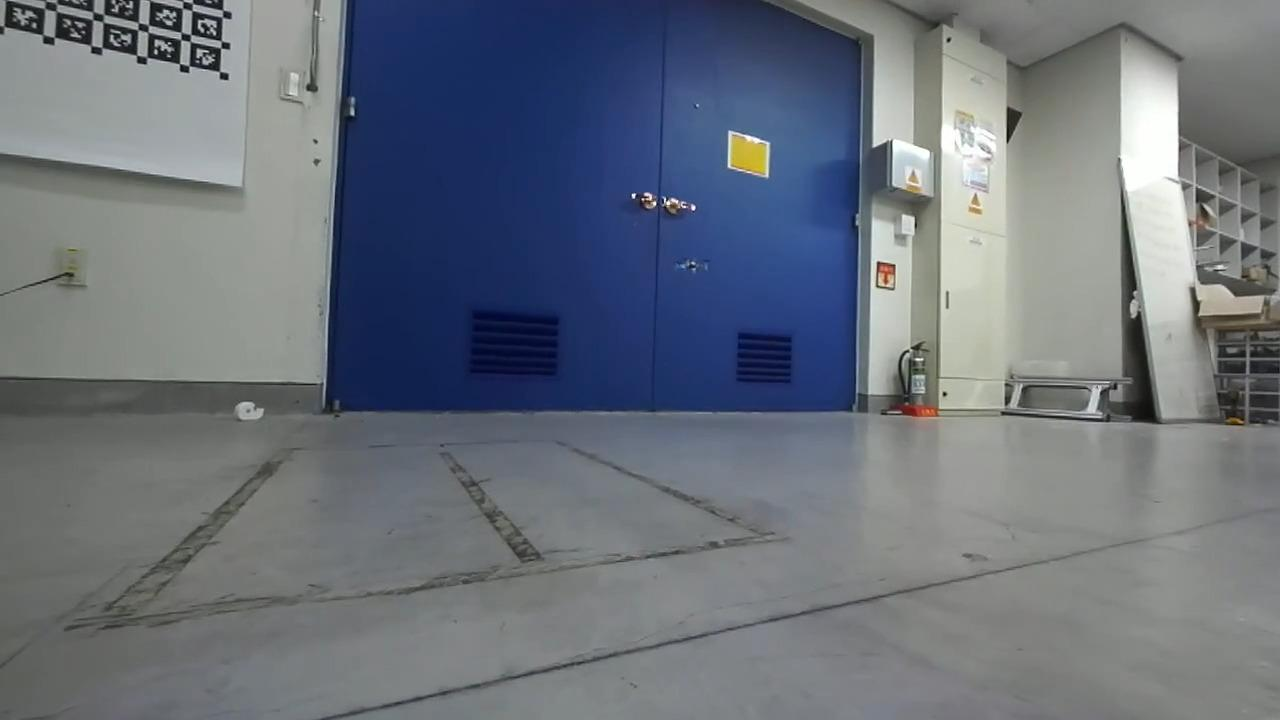crazyflie: (675, 255, 719, 278)
